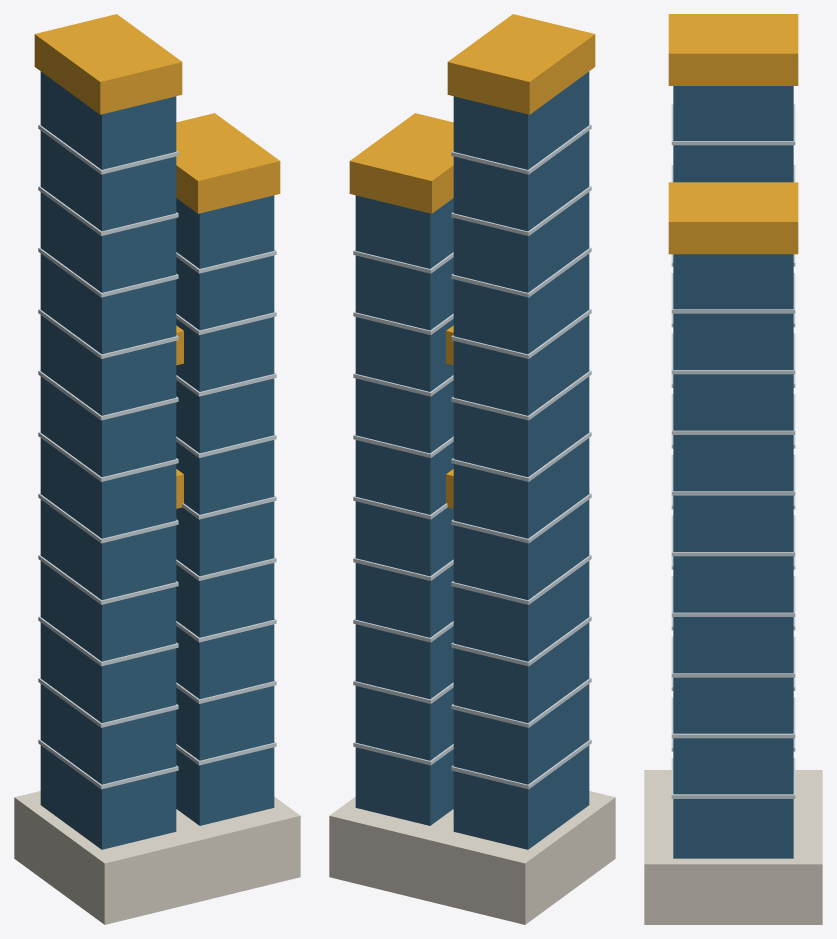
File: atlantic-trust.glb
3 renders of one model, left to right at view 1: azimuth 30°, elevation 25°; view 2: azimuth 150°, elevation 25°; view 3: azimuth 270°, elevation 25°, orthographic.
Visible parts, largest first — view 1: atlantic-trust_Building; view 2: atlantic-trust_Building; view 3: atlantic-trust_Building.
Boxes of the visible parts, <box> form: atlantic-trust_Building: <box>14,14,300,924</box>; atlantic-trust_Building: <box>329,14,615,924</box>; atlantic-trust_Building: <box>644,14,822,924</box>.
Size of the model in its own units: 10 by 40.6 by 8.
